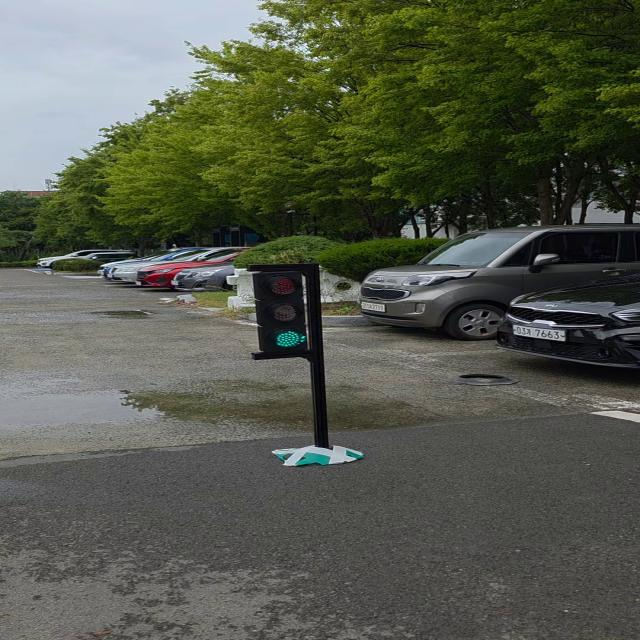green: (259, 270, 317, 351)
